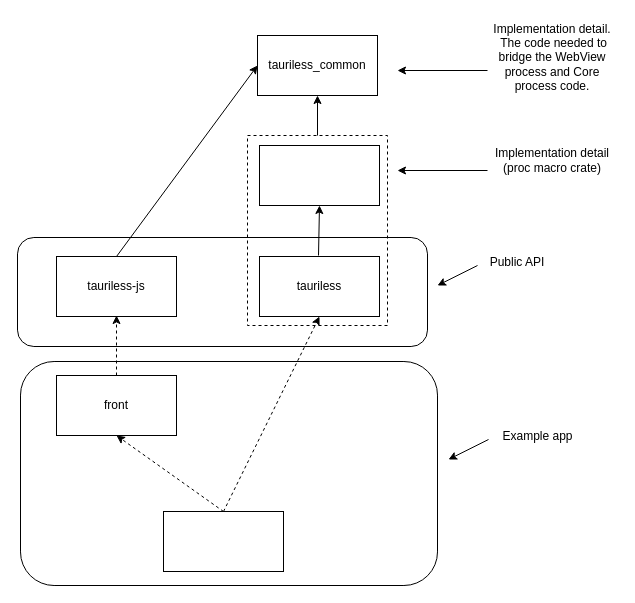
Image size: 635x603. Some labels were removed from this diagram. Here are the shapes that lost their labels. From the top down, the centre of each, then its label:
[319,175]: tauriless_macro
[223,541]: wry_app
